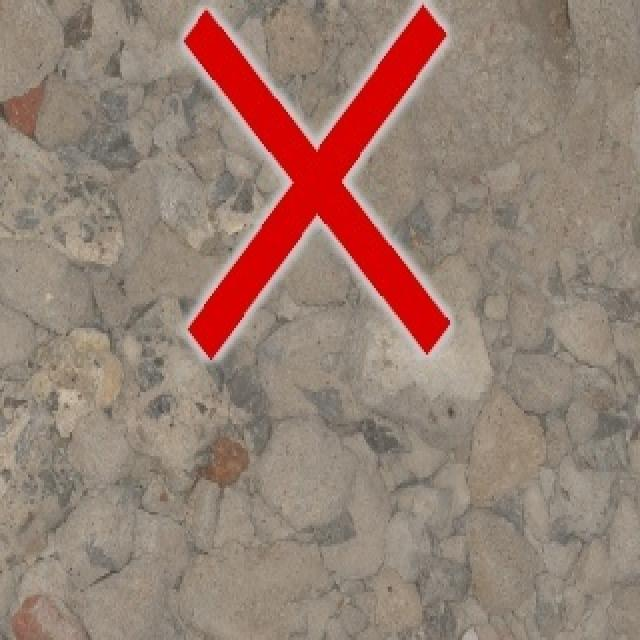x_marker: (183, 4, 449, 356)
